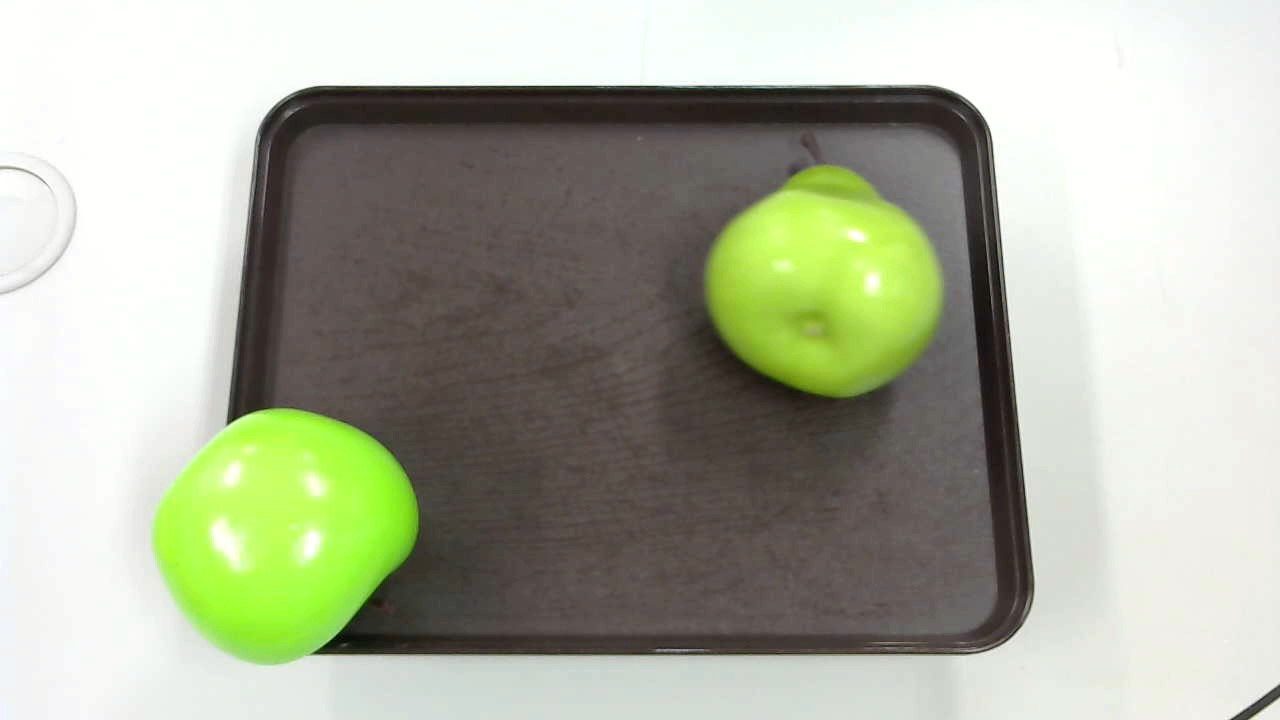green apple: (147, 407, 423, 660)
green pear: (700, 128, 951, 411)
